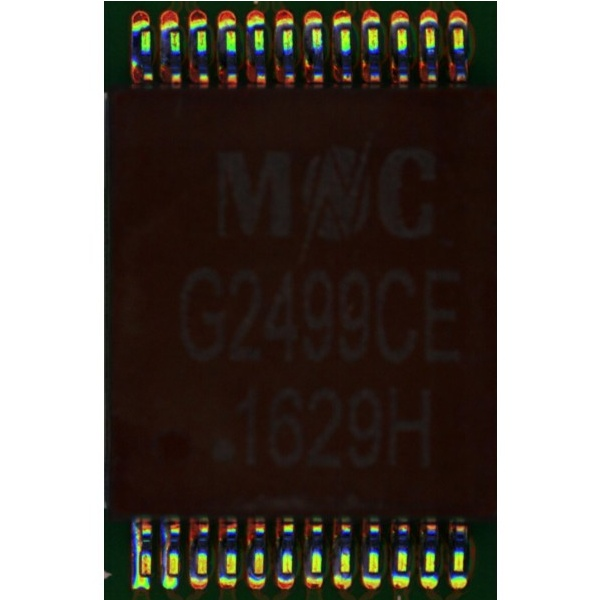Bad_qiaojiao: (132, 520, 140, 573), (160, 523, 167, 574)
